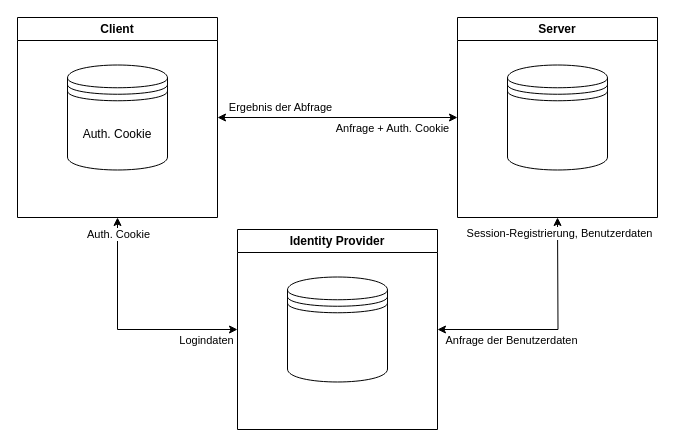
Image size: 675x447. Some labels were removed from this diagram. Here are the shapes that lost their labels. From the top down, the centre of each, then its label:
At point 557,117: "PostgreSQL Datenbank mit Entitäten".
At point 337,329: "Interne Datenbank mit Nutzerdaten, Sessions, etc.".
